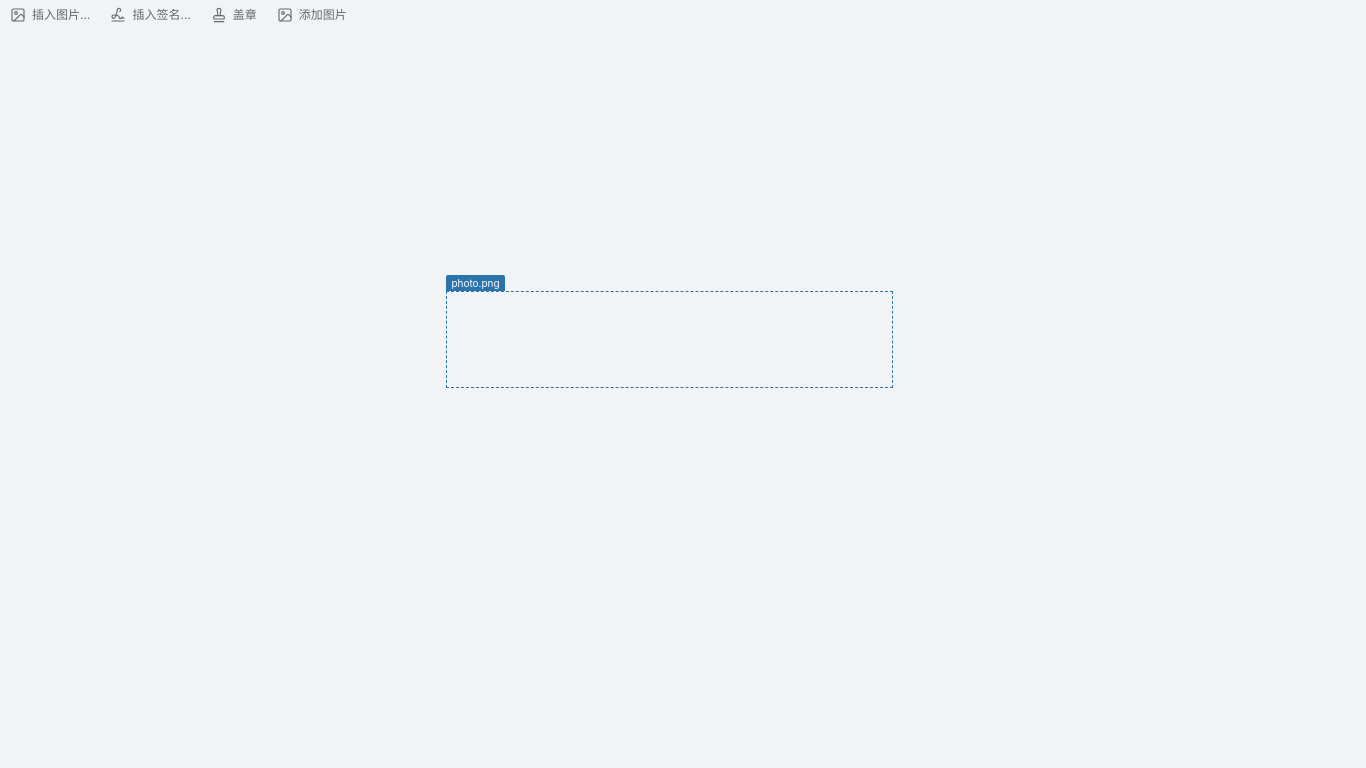
PageImageLayer › creates a link over the selected image's bounds
Press the mouse on the element with test id "image-outline-1" at [670, 339], box [446, 291, 893, 388]
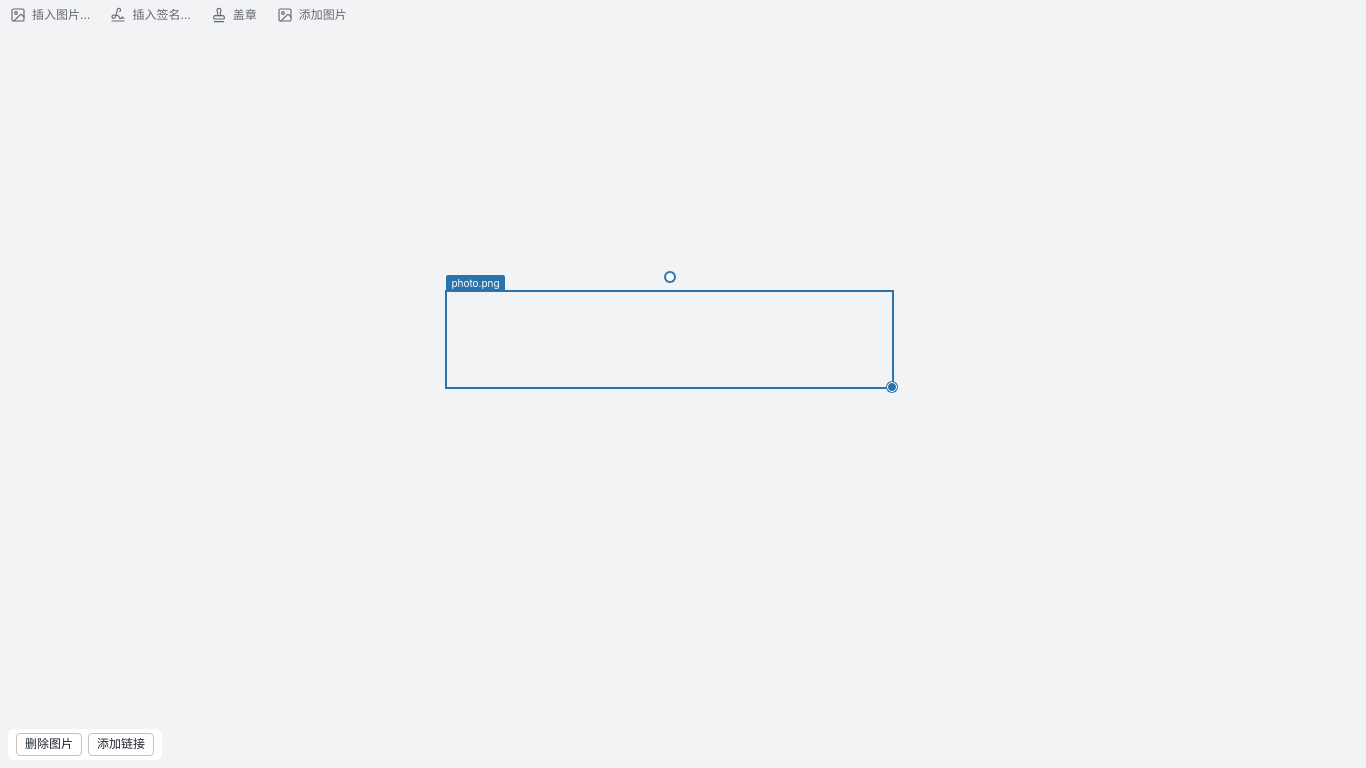
Click the button "添加链接". click: [121, 745]
box: [88, 733, 154, 756]
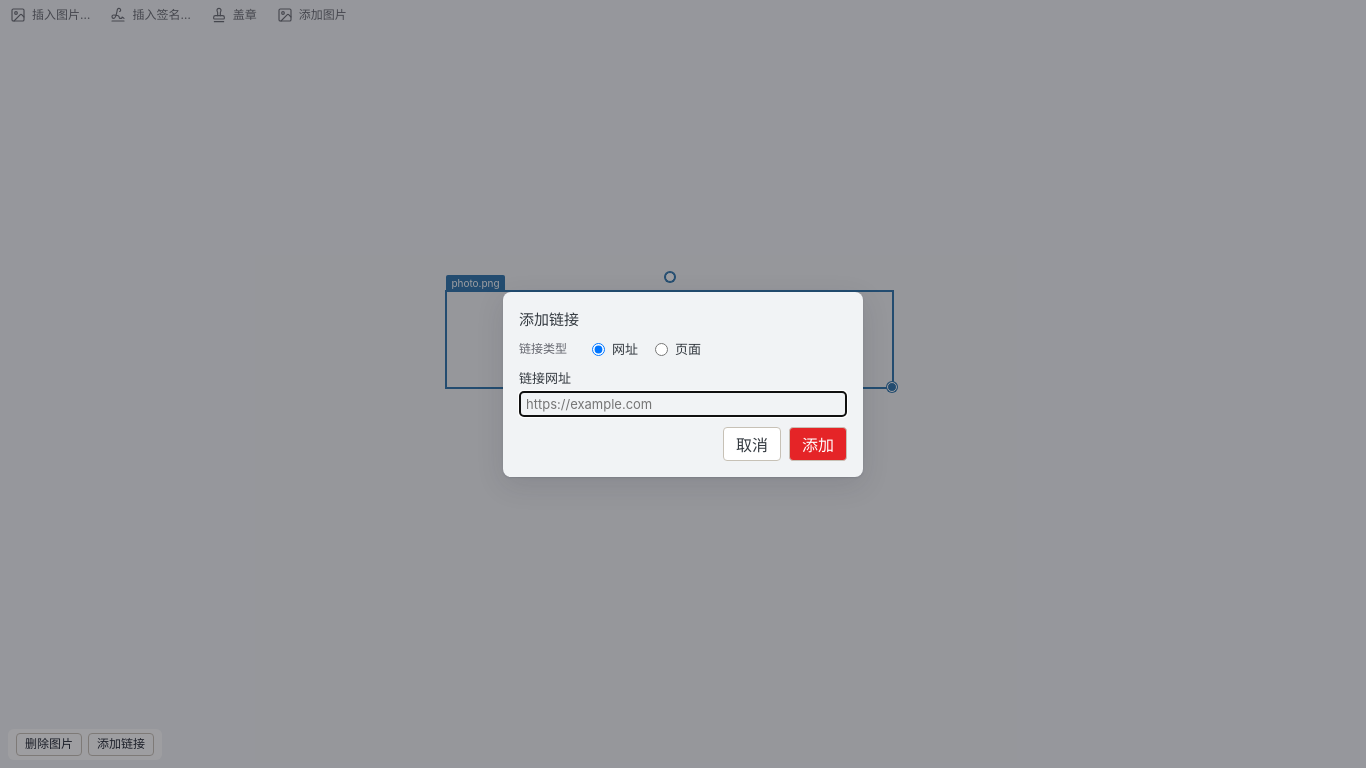
Now the dialog "添加链接" is shown, box [503, 292, 863, 476]
Type "https://example.com/photo" into the field labelled "链接网址". click: [683, 404]
box: [519, 390, 847, 416]
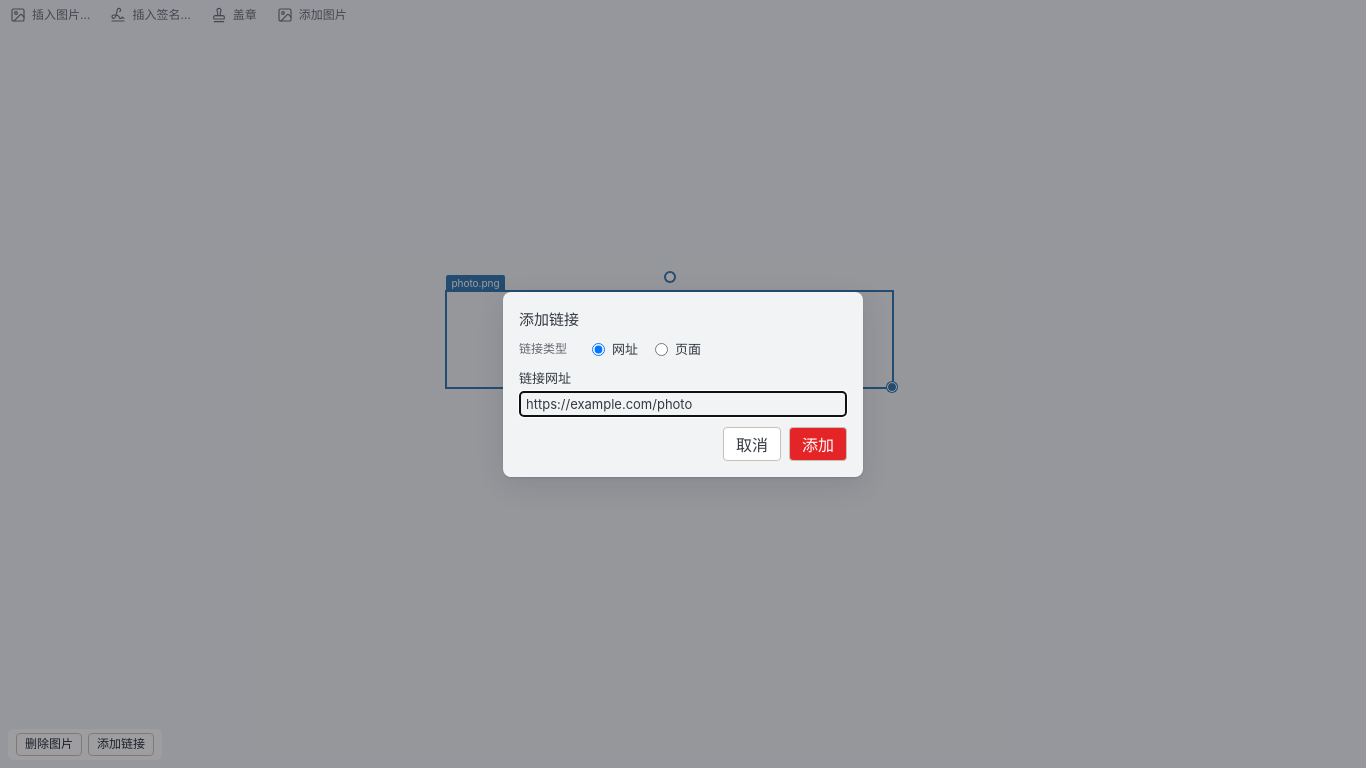
Click the button "添加". click: [818, 444]
box: [789, 426, 847, 460]
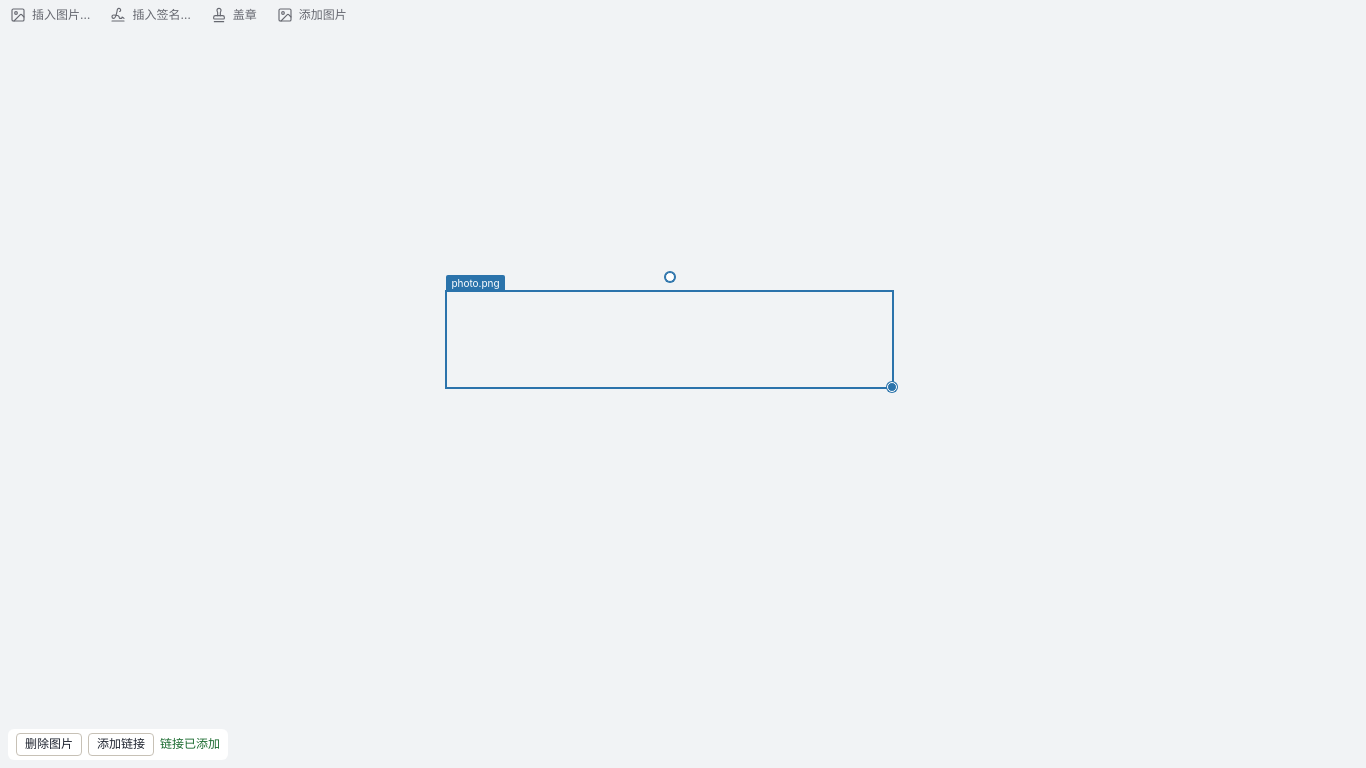
Now the dialog is gone
Now the message reads "链接已添加", box [160, 736, 220, 751]
